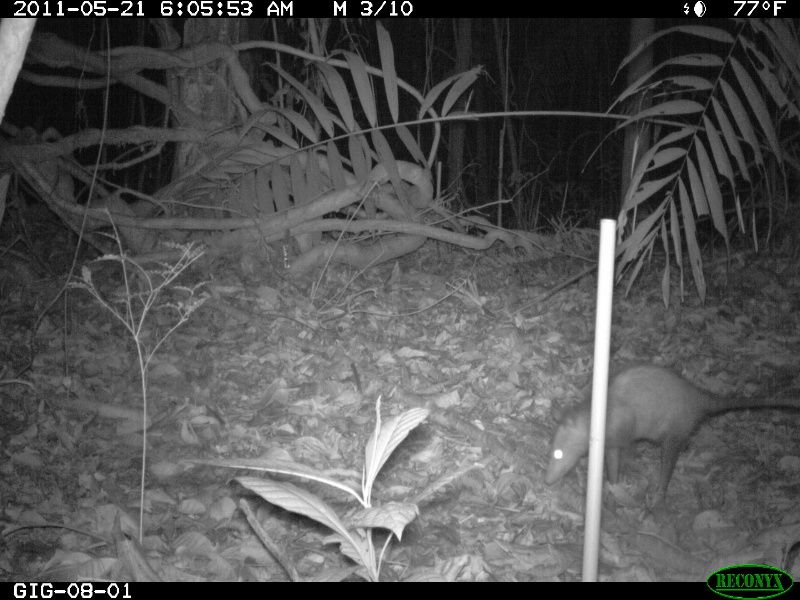opossum: (542, 363, 800, 503)
